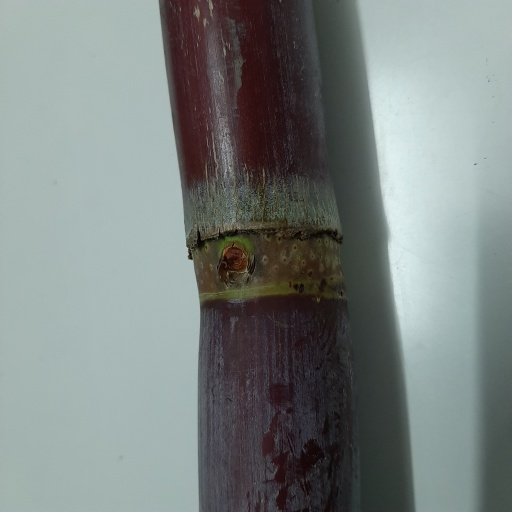Damage_Bud: (217, 245, 249, 286)
